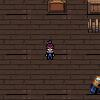Hide: (45, 0, 69, 15), (85, 15, 100, 34)
Obstacle: (85, 0, 100, 16)
Victim: (42, 39, 57, 61)
Win: (84, 72, 100, 95)
